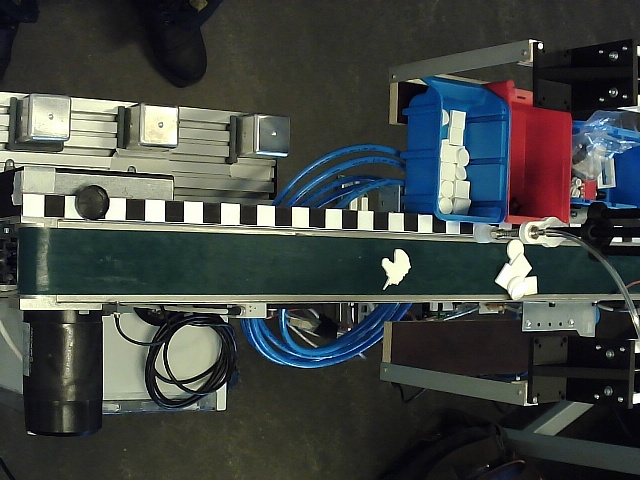unicorn: (381, 249, 412, 291)
